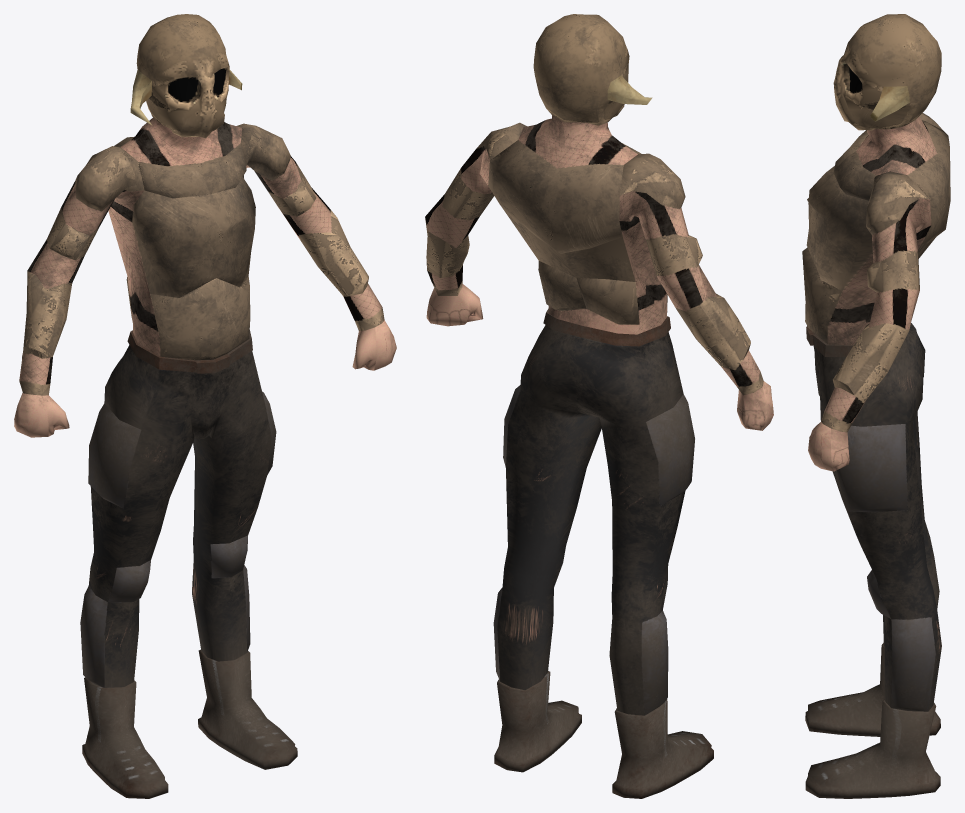
File: Anim_idle_npc1.0048.obj
3 renders of one model, left to right at view 1: azimuth 30°, elevation 25°; view 2: azimuth 150°, elevation 25°; view 3: azimuth 270°, elevation 25°, orthographic. The views are drawn at different scales.
Parts seen in each view (by area): view 1: NPC2; view 2: NPC2; view 3: NPC2.
Part boxes in pixels (box(x1,y1,x2,y2)): NPC2: box(14, 14, 396, 798); NPC2: box(425, 14, 773, 798); NPC2: box(802, 14, 950, 798).
Bounding box in the file's own units: 4.92 × 9.67 × 1.75.
